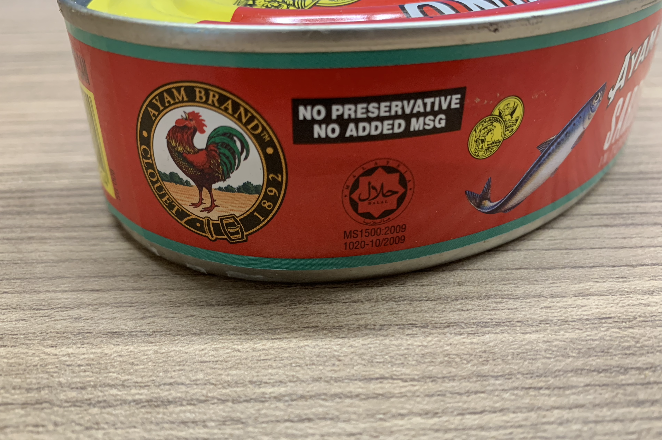halal: (352, 173, 406, 216)
